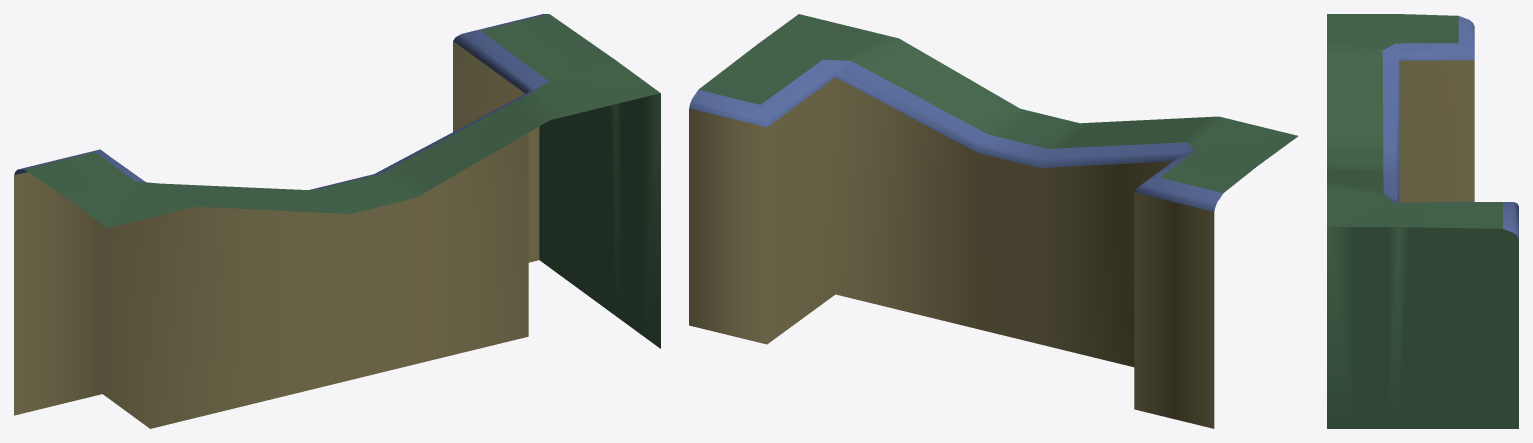
Rendered from Cuarta_PLat.fbx.
3 views of the same model, side by side, from view 1: azimuth 30°, elevation 25°; view 2: azimuth 150°, elevation 25°; view 3: azimuth 270°, elevation 25° (orthographic). The views are drawn at different scales.
Parts seen in each view (by area): view 1: Cuarta_PLat, Ground10, Wall10; view 2: Cuarta_PLat, Ground10, Wall10; view 3: Ground10, Cuarta_PLat, Wall10.
Boxes of the visible parts, <box> form: Cuarta_PLat: <box>14,41,539,428</box>; Ground10: <box>24,14,660,348</box>; Wall10: <box>14,14,548,190</box>; Cuarta_PLat: <box>689,77,1214,428</box>; Ground10: <box>689,14,1298,192</box>; Wall10: <box>689,59,1223,211</box>; Ground10: <box>1327,14,1518,428</box>; Cuarta_PLat: <box>1399,60,1474,202</box>; Wall10: <box>1382,16,1518,238</box>.
Bounding box in the file's own units: 17890 × 7906 × 6802.
